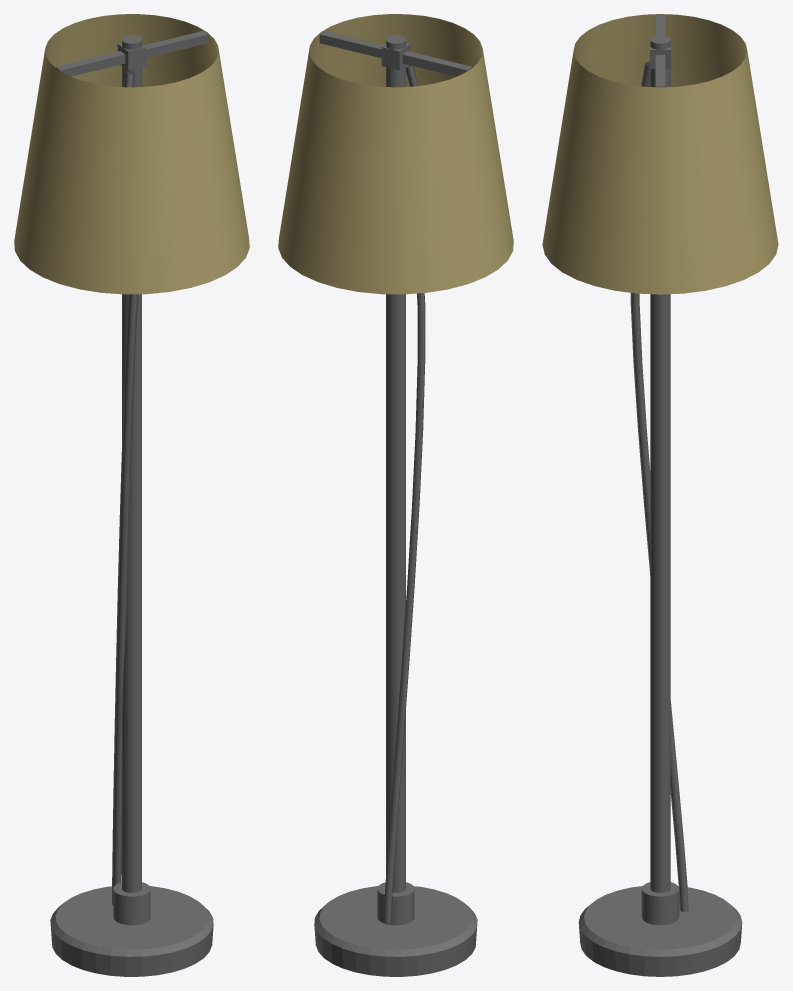
File: LightStand01.fbx
3 renders of one model, left to right at view 1: azimuth 30°, elevation 25°; view 2: azimuth 150°, elevation 25°; view 3: azimuth 270°, elevation 25°, orthographic.
Visible parts, largest first — view 1: LightStand01; view 2: LightStand01; view 3: LightStand01.
Boxes of the visible parts, <box> form: LightStand01: <box>14,14,249,976</box>; LightStand01: <box>278,14,513,976</box>; LightStand01: <box>542,14,778,976</box>.
Size of the model in its own units: 68.27 by 288 by 68.27.
